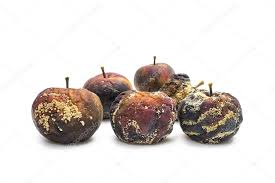damaged_apple: (31, 87, 104, 145), (110, 89, 178, 145), (179, 91, 243, 145), (81, 67, 134, 117), (135, 60, 176, 94)
